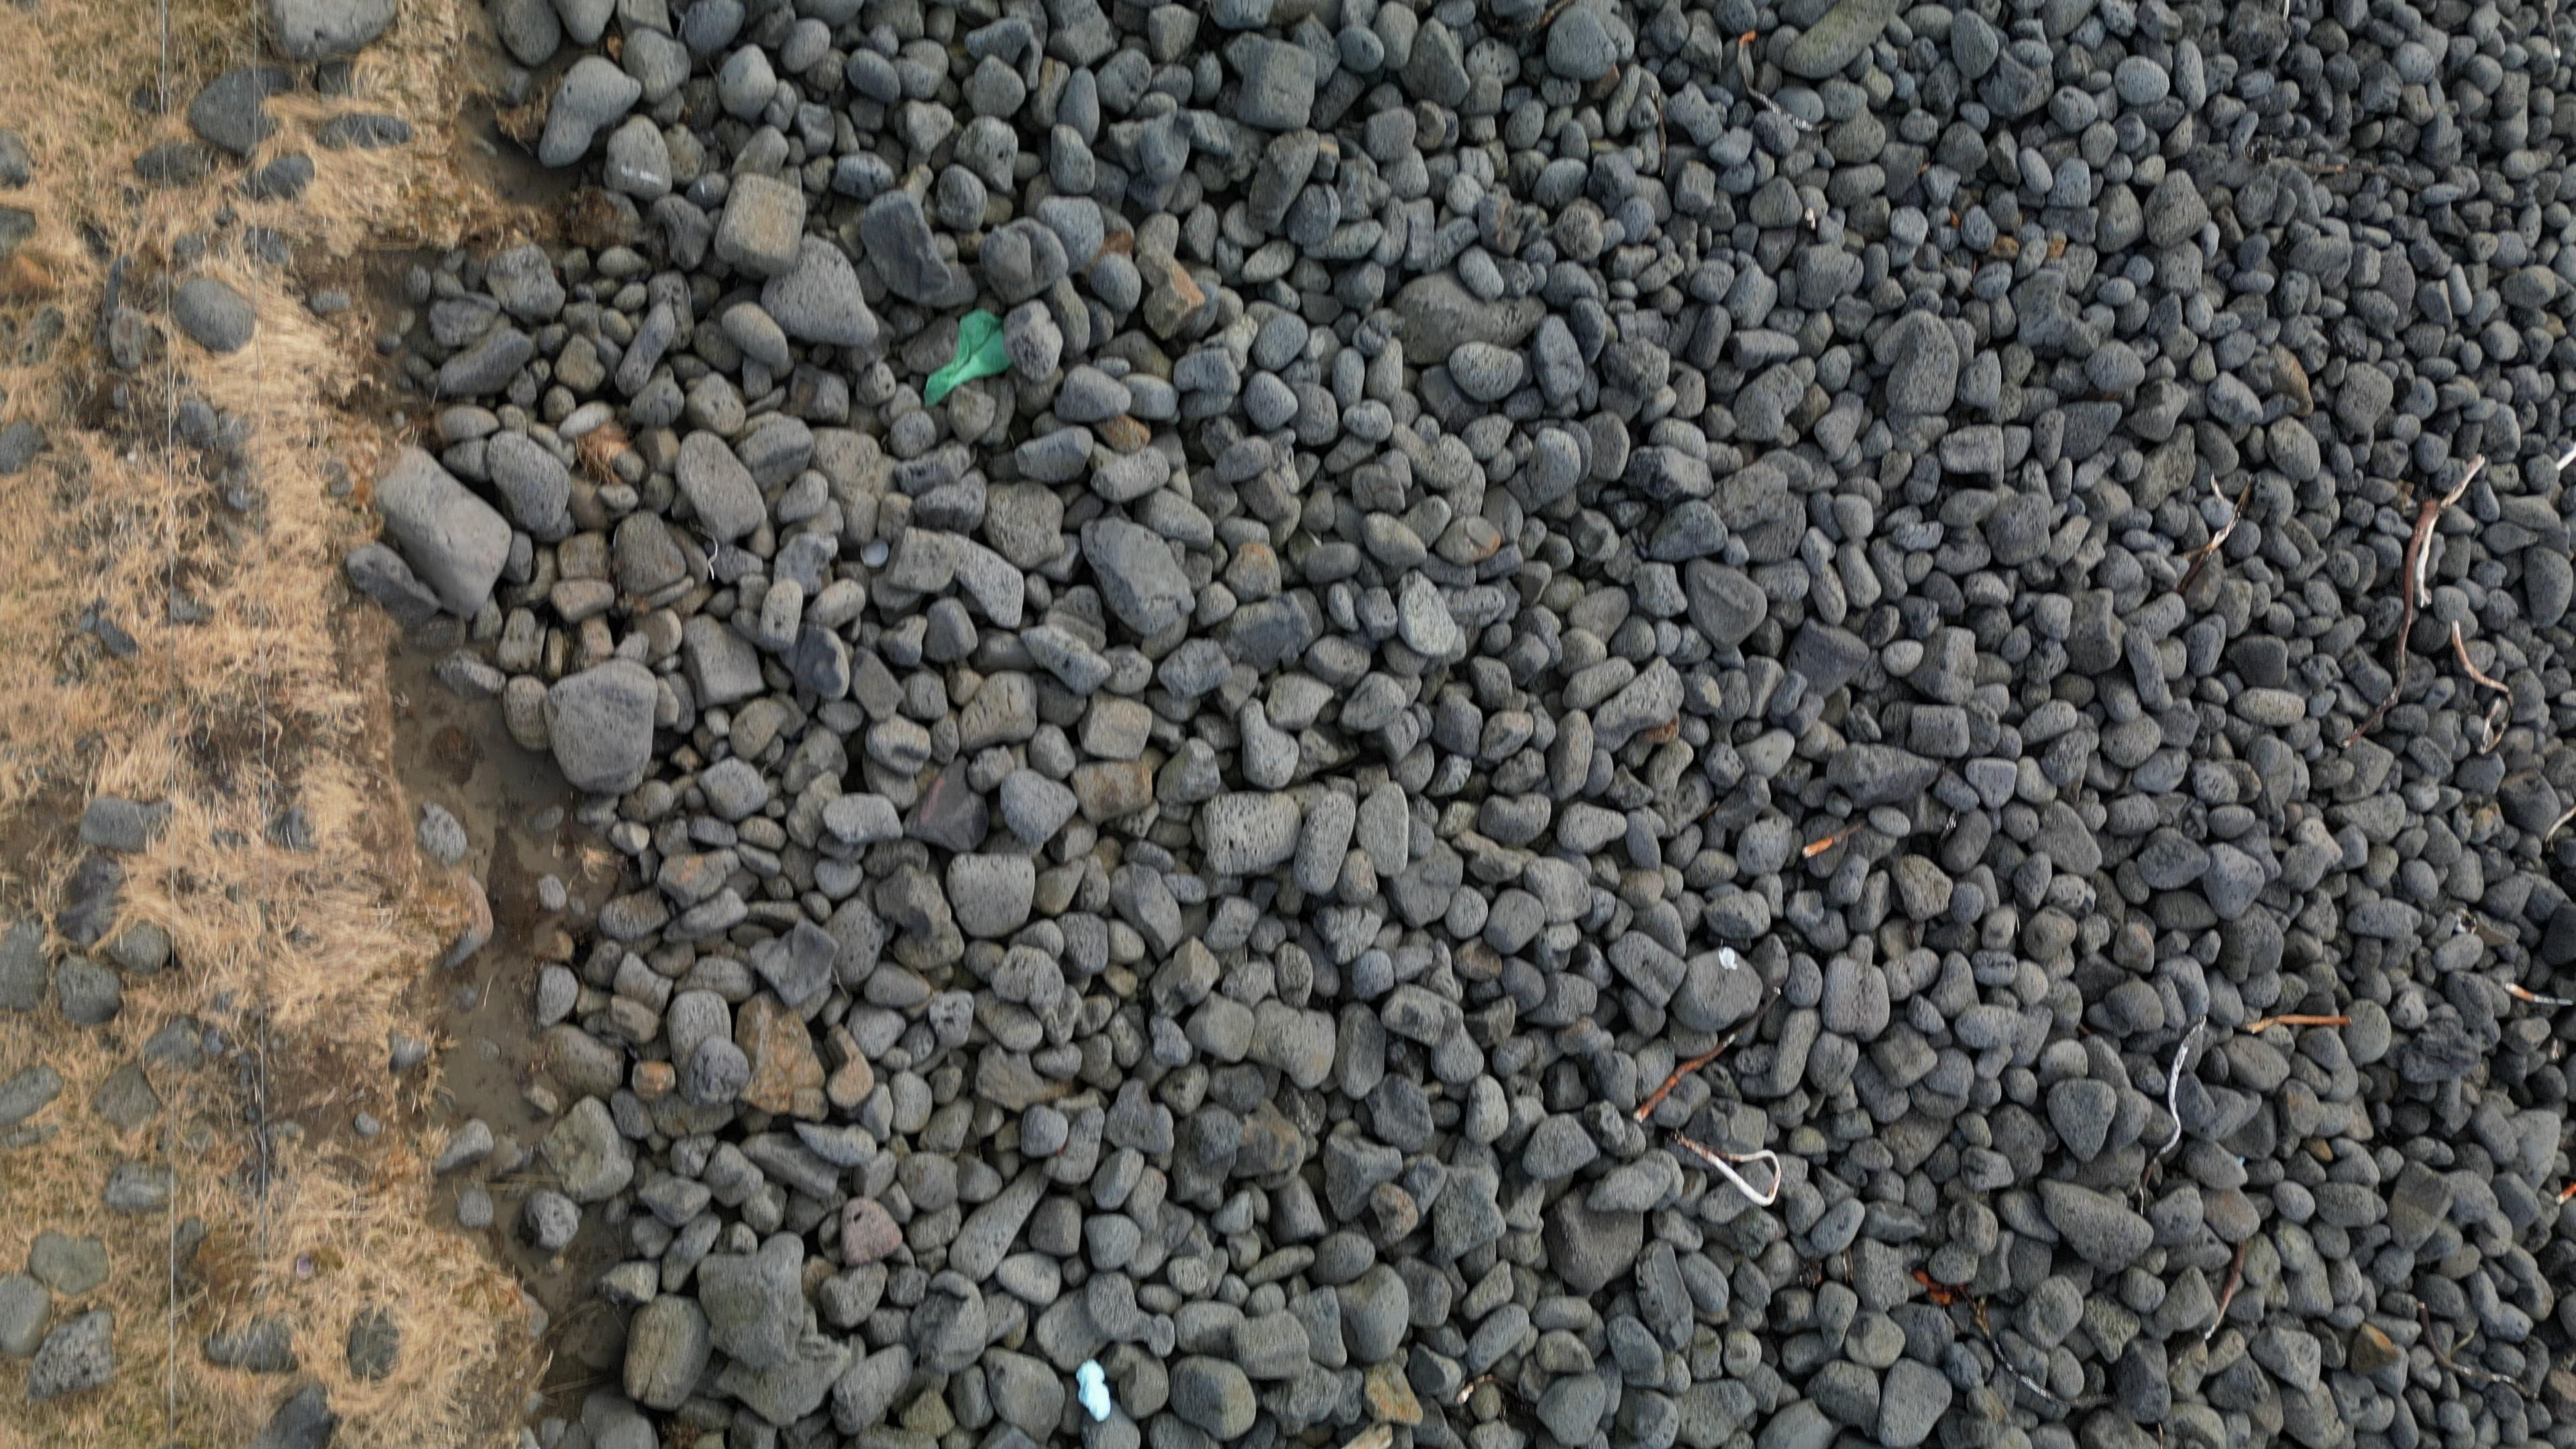trash: (1077, 1359, 1111, 1424)
